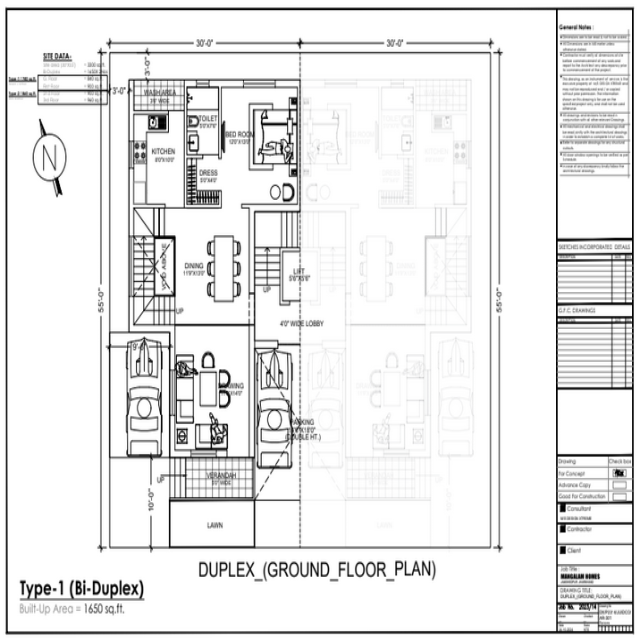window: (243, 77, 276, 91), (168, 368, 177, 418), (128, 234, 134, 299), (190, 448, 217, 459), (128, 139, 135, 170), (195, 77, 210, 90)
